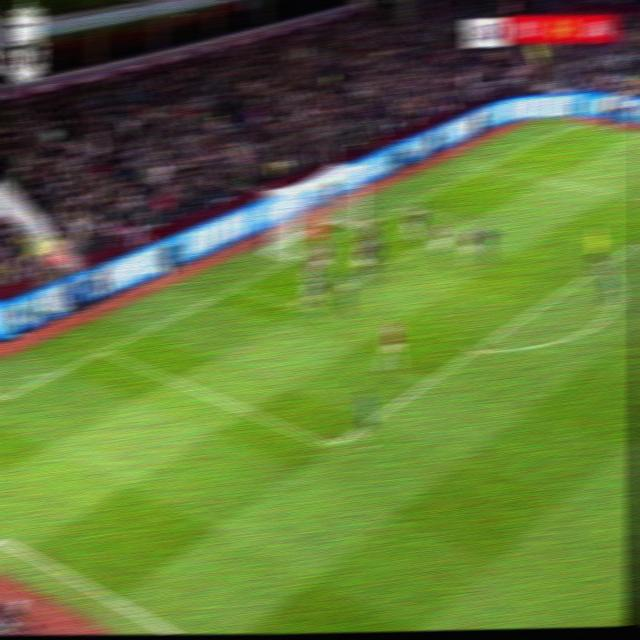bigarea_bottom_inner: (322, 434, 342, 459)
bigarea_bottom_outter: (96, 344, 113, 356)
bigarea_top_outter: (481, 160, 495, 171)
bottom_arc_area_intersection: (466, 340, 486, 359)
corner: (564, 120, 581, 128)
smallarea_bottom_inner: (294, 299, 312, 315)
smallarea_bottom_outter: (229, 278, 247, 294)
smallarea_top_inner: (459, 216, 475, 228)
smallarea_top_outter: (398, 198, 414, 211)
top_arc_area_intersection: (597, 257, 611, 271)
